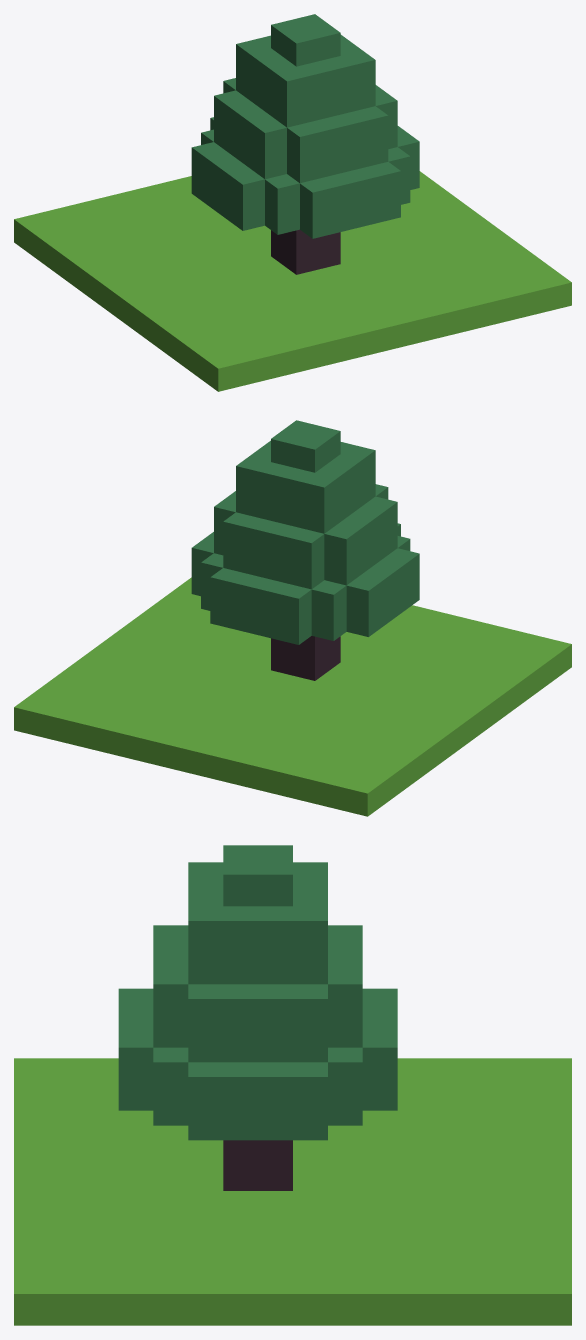
The model's file is models-0.obj.
3 views of the same model, one above another, from view 1: azimuth 30°, elevation 25°; view 2: azimuth 150°, elevation 25°; view 3: azimuth 270°, elevation 25° (orthographic). The views are drawn at different scales.
Size of the model in its own units: 1.6 by 1.1 by 1.6.
Materials: 1 (1 with a texture image).
